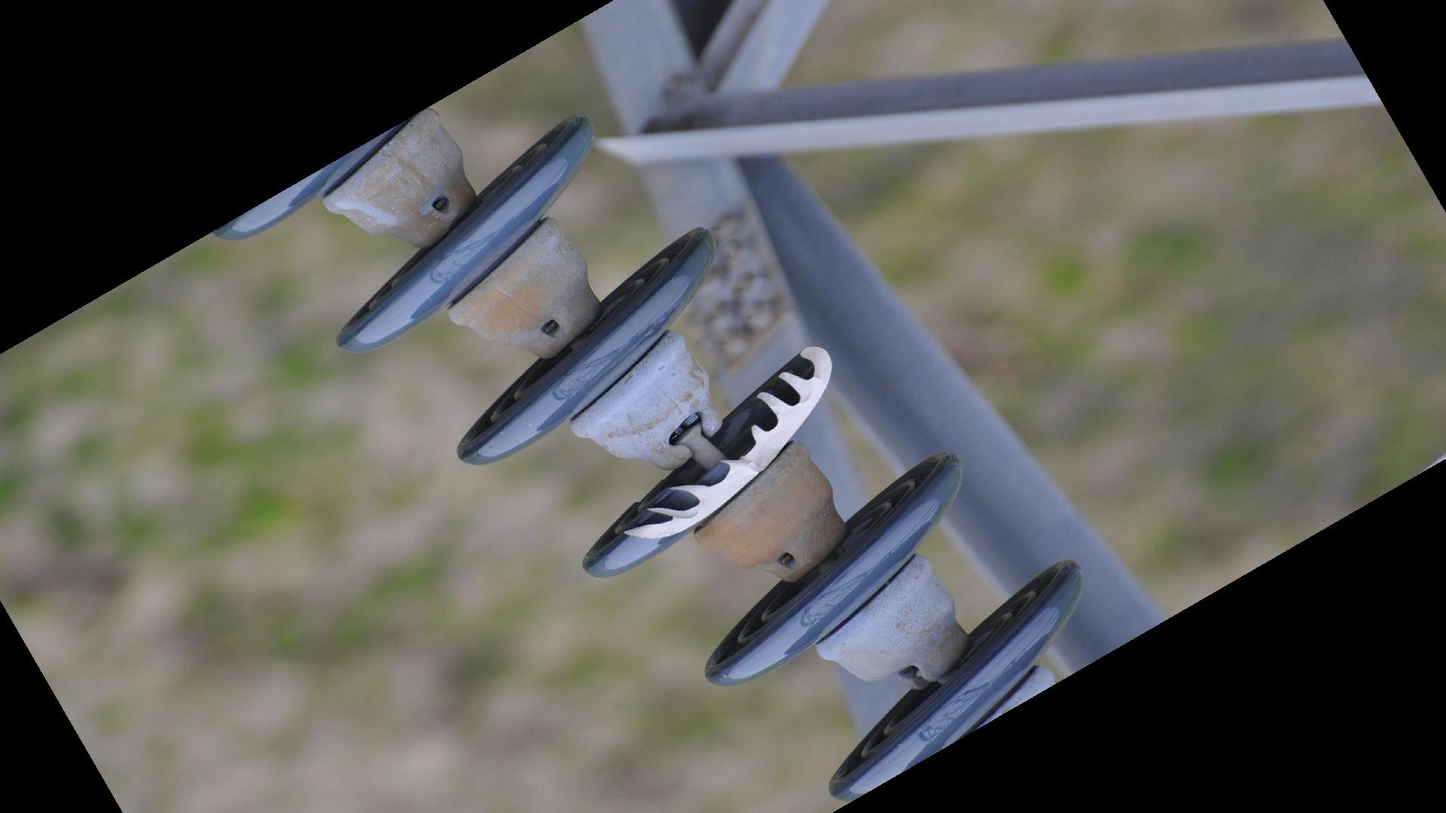insulator: (206, 98, 1094, 813)
insulator_breakage: (616, 337, 841, 551)
